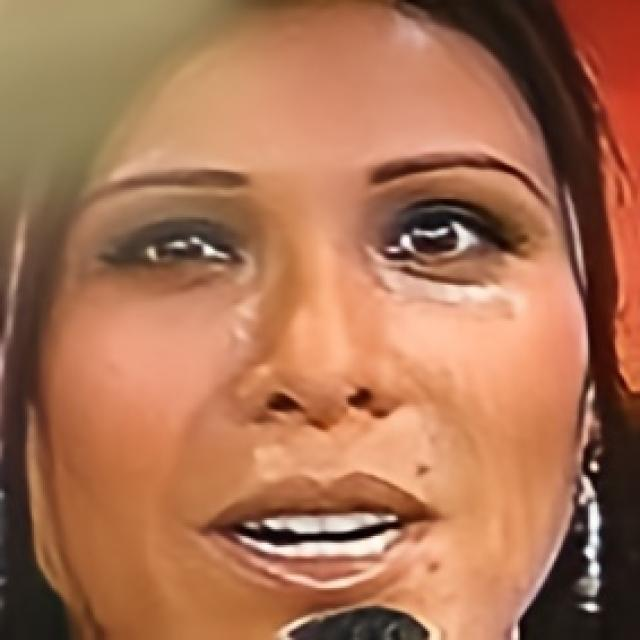surprise: (31, 0, 592, 640)
